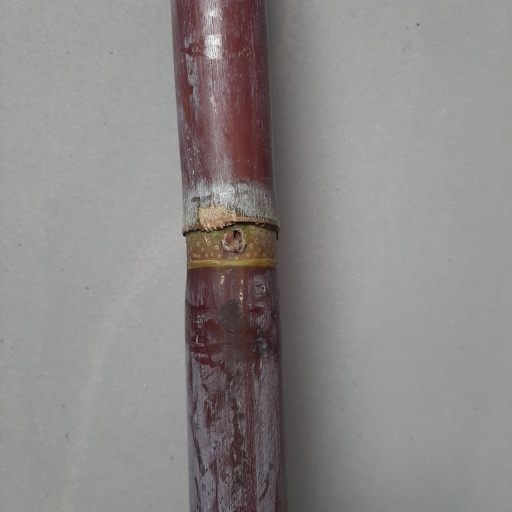Damage_Bud: (220, 228, 247, 256)
